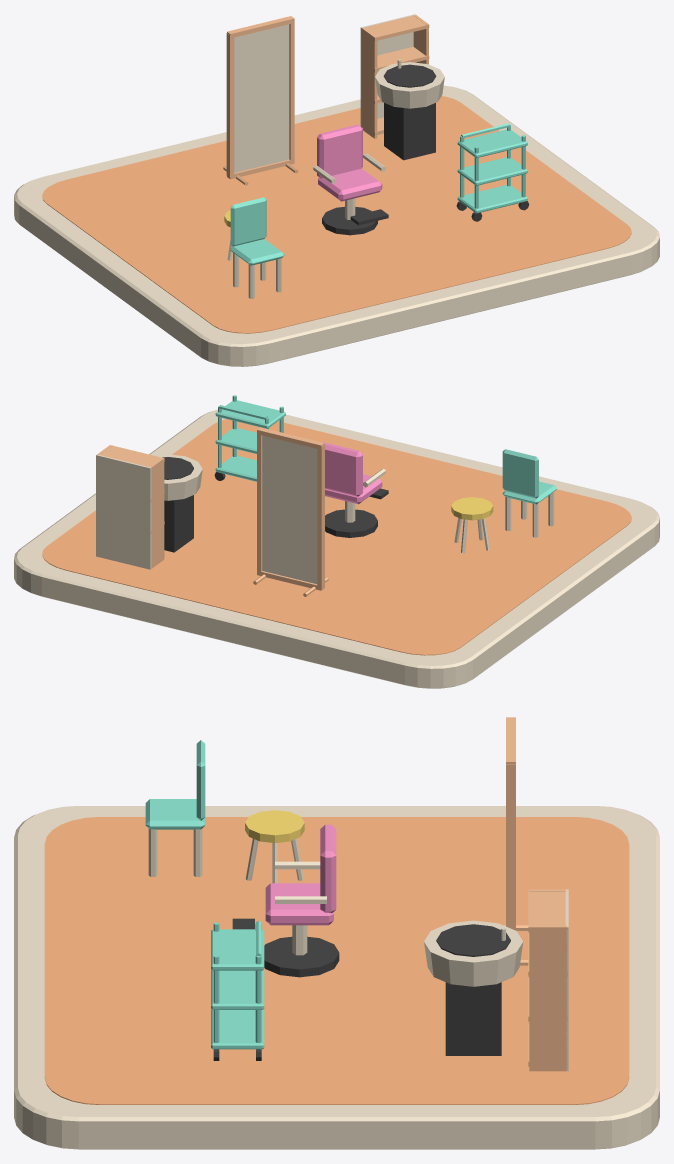
Rendered from room.fbx.
The picture shows the model from 3 angles, top to bottom: view 1: azimuth 30°, elevation 25°; view 2: azimuth 150°, elevation 25°; view 3: azimuth 270°, elevation 25°; orthographic projection. The views are drawn at different scales.
Parts seen in each view (by area): view 1: COM-02 Floor Surface, COM-01 Rounded Base Direct, Mirror face, Pedestal, Back, Bowl, Side, Backrest, Seat, Frame, Tray.002, Tray (+9 smaller); view 2: COM-02 Floor Surface, COM-01 Rounded Base Direct, Mirror face, Back.001, Back, Backrest, Pedestal, Side, Base, Frame, Bowl, Tray.002 (+9 smaller); view 3: COM-02 Floor Surface, COM-01 Rounded Base Direct, Side.001, Pedestal, Bowl, Base, Seat, Tray.002, Inset, Tray, Tray.001, Seat.002 (+5 smaller).
Boxes of the visible parts, x1,y1,x2,y2 form: COM-02 Floor Surface: (42, 96, 631, 333); COM-01 Rounded Base Direct: (14, 85, 659, 366); Mirror face: (234, 24, 289, 172); Pedestal: (384, 103, 435, 160); Back: (317, 124, 362, 178); Bowl: (375, 62, 444, 108); Side: (361, 27, 377, 138); Backrest: (230, 197, 266, 246); Seat: (318, 168, 382, 201); Frame: (226, 33, 234, 177); Tray.002: (457, 129, 527, 157); Tray: (457, 185, 527, 213); COM-02 Floor Surface: (42, 419, 631, 655); COM-01 Rounded Base Direct: (14, 409, 659, 688); Mirror face: (262, 435, 317, 583); Back.001: (96, 454, 151, 569); Back: (322, 442, 362, 496); Backrest: (502, 449, 538, 498); Pedestal: (164, 495, 193, 552); Side: (149, 457, 164, 568); Base: (325, 509, 377, 537); Frame: (317, 444, 324, 589); Bowl: (155, 454, 202, 500); Tray.002: (215, 400, 285, 428); COM-02 Floor Surface: (44, 817, 629, 1104); COM-01 Rounded Base Direct: (14, 806, 659, 1149); Side.001: (529, 925, 566, 1071); Pedestal: (445, 982, 501, 1055); Bowl: (424, 920, 523, 986); Base: (264, 936, 339, 977); Seat: (265, 883, 333, 925); Tray.002: (211, 929, 264, 970); Inset: (436, 924, 510, 956); Tray: (211, 1009, 264, 1049); Tray.001: (211, 970, 264, 1009); Seat.002: (145, 799, 205, 829).
Size of the model in its own units: 600 by 216 by 520.
